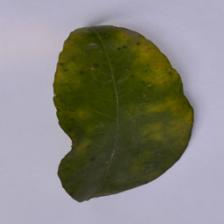greening: (44, 19, 199, 196)
